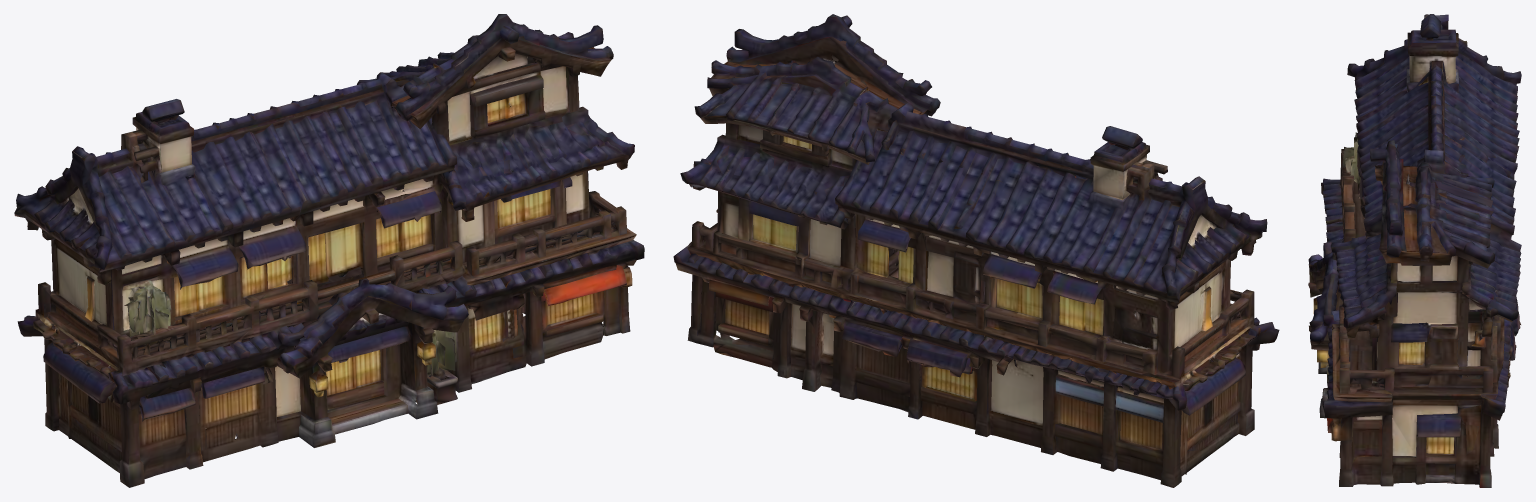
3 views of the same model, side by side, from view 1: azimuth 30°, elevation 25°; view 2: azimuth 150°, elevation 25°; view 3: azimuth 270°, elevation 25° (orthographic). The views are drawn at different scales.
Parts seen in each view (by area): view 1: compact__skyscraper_2__native_mobile; view 2: compact__skyscraper_2__native_mobile; view 3: compact__skyscraper_2__native_mobile.
Boxes of the visible parts, bbox=[...] form: compact__skyscraper_2__native_mobile: bbox=[14, 14, 644, 487]; compact__skyscraper_2__native_mobile: bbox=[673, 14, 1279, 487]; compact__skyscraper_2__native_mobile: bbox=[1308, 14, 1521, 487].
Size of the model in its own units: 1 by 0.6289 by 0.368.
1 material, 1 textured.
